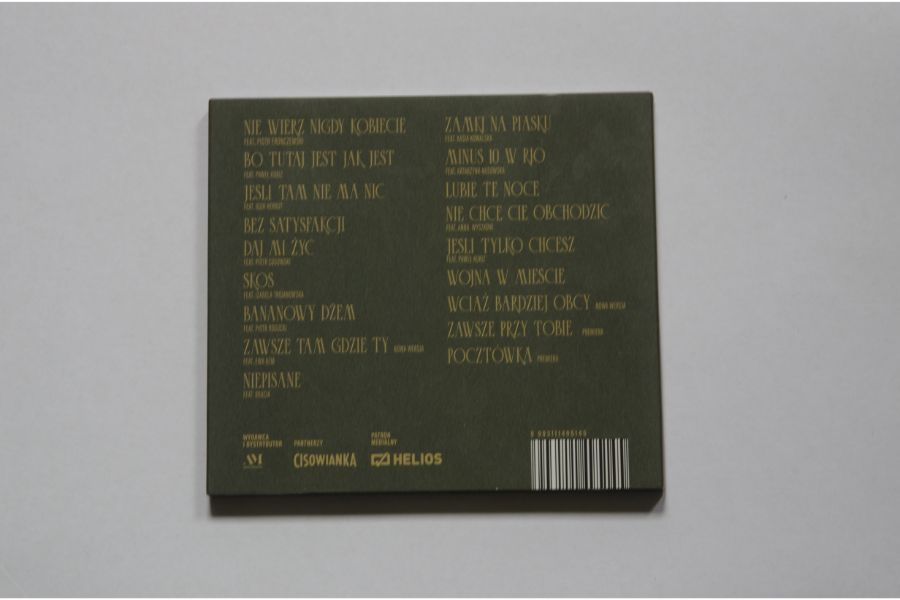album: (204, 96, 663, 494)
